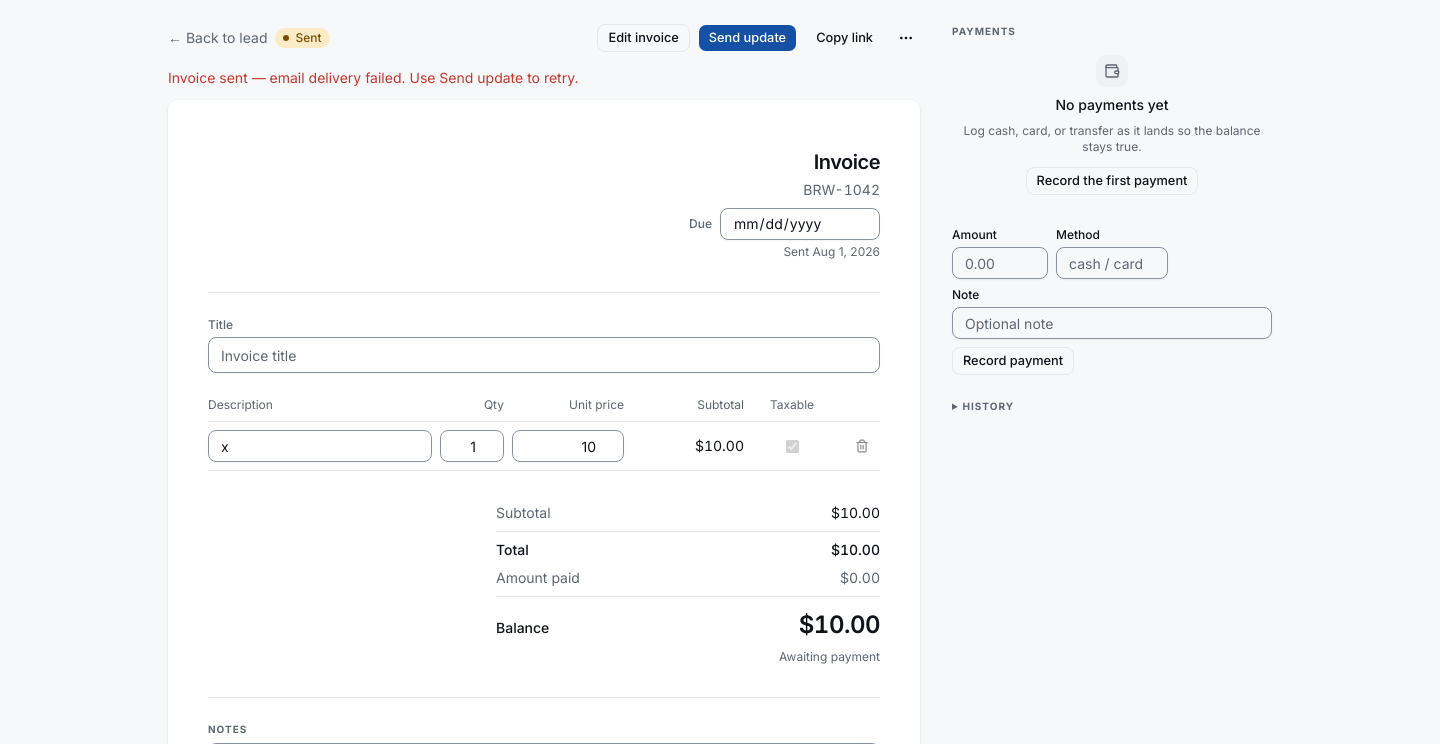
InvoiceEditorClient — document › clears the delivery warning once a send succeeds
Click the button "Send update".
click(747, 38)  # box [698, 24, 797, 52]
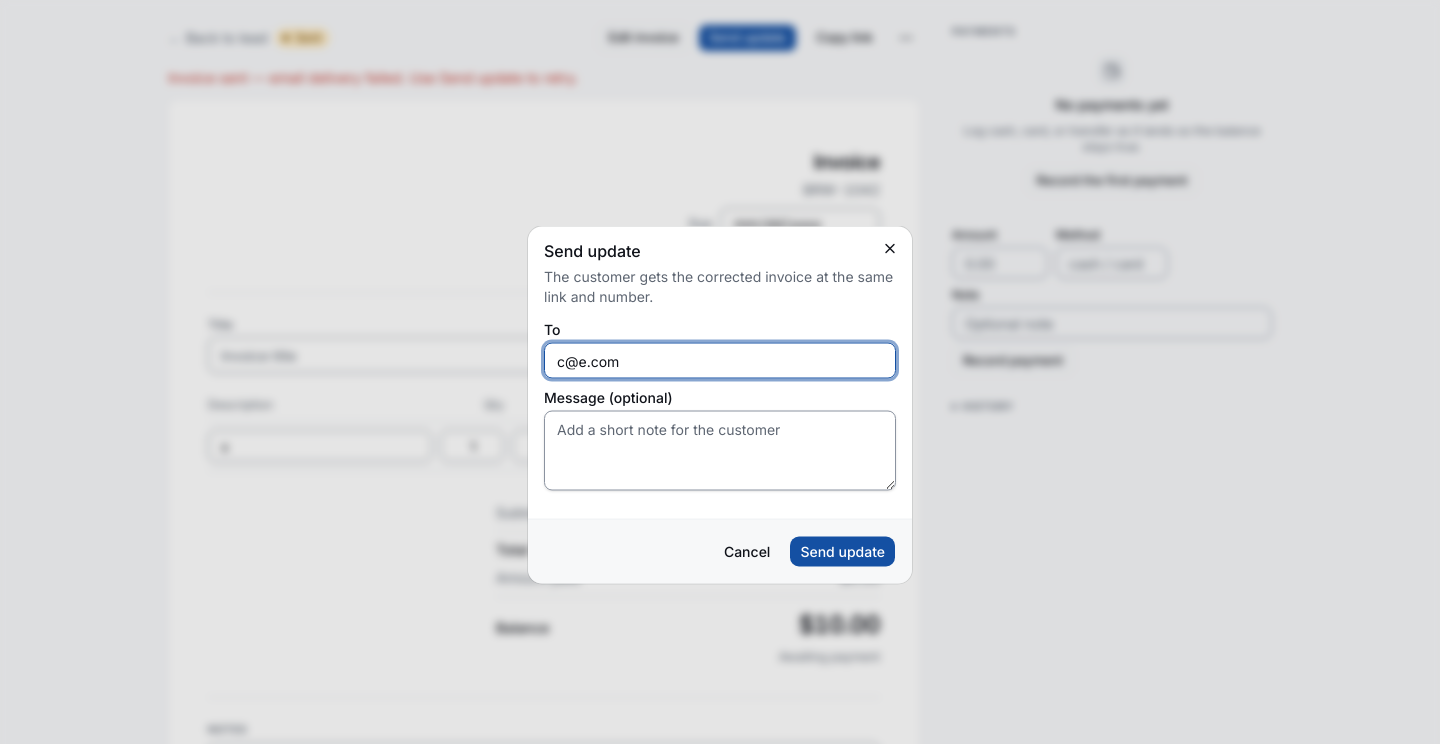
Click the button "Send update".
click(843, 552)  # box [789, 536, 896, 568]
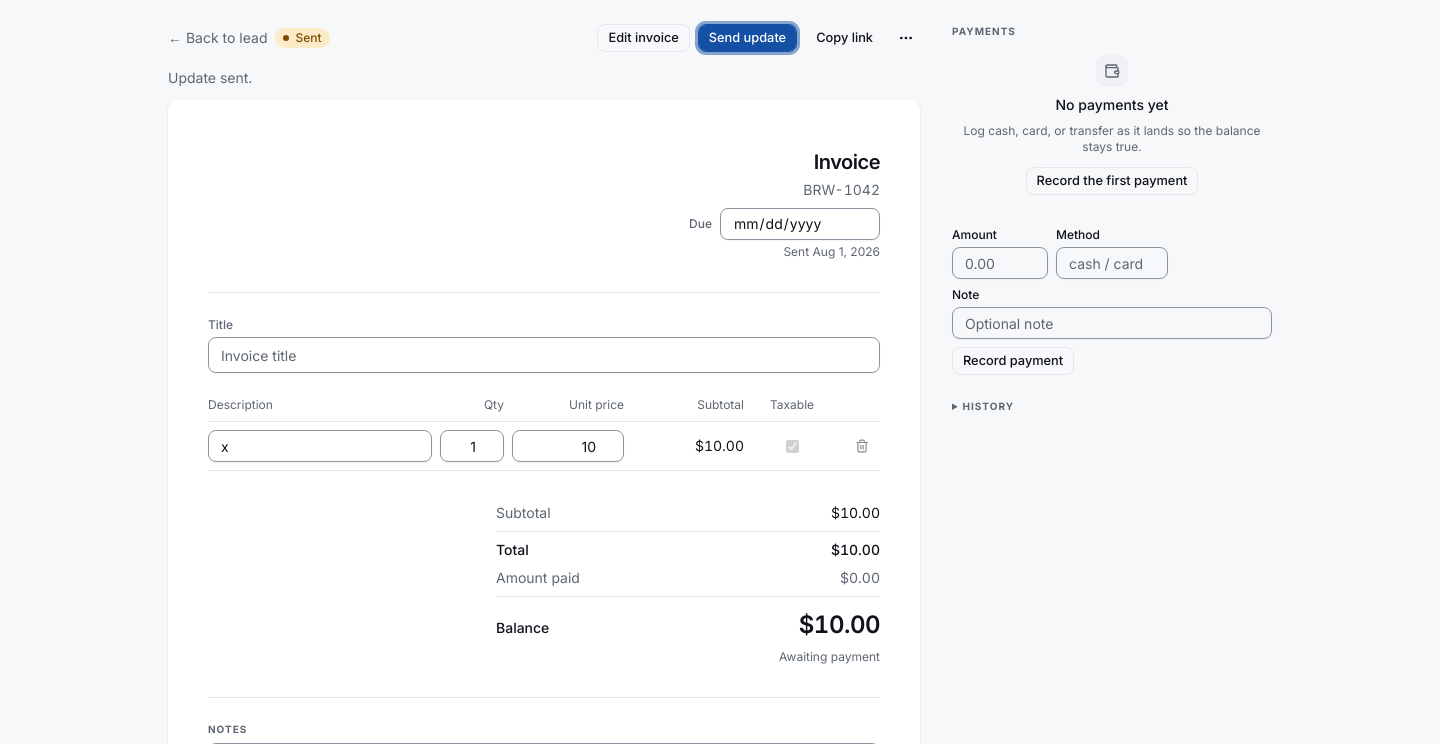
Check: the text "Update sent." is shown, box [168, 69, 252, 86]
Check: the text "email delivery failed" is gone
